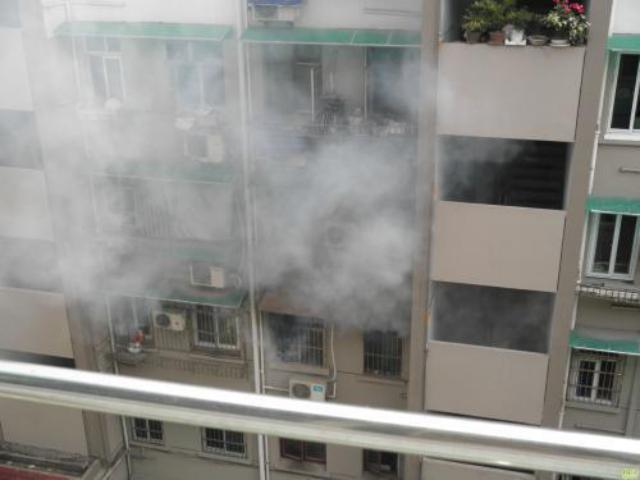smoke: (14, 80, 242, 322), (244, 122, 418, 328)
